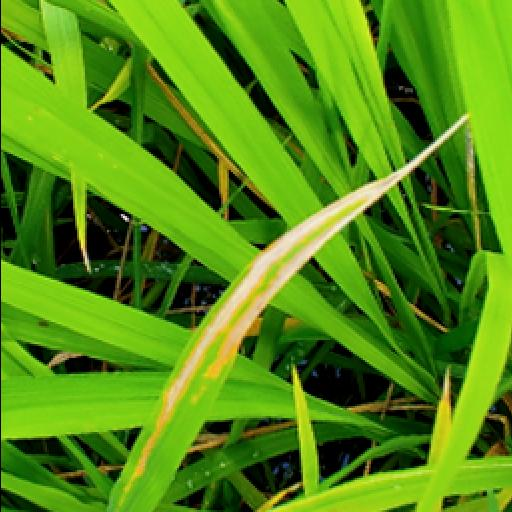Sheath Blight: (108, 98, 480, 490)
